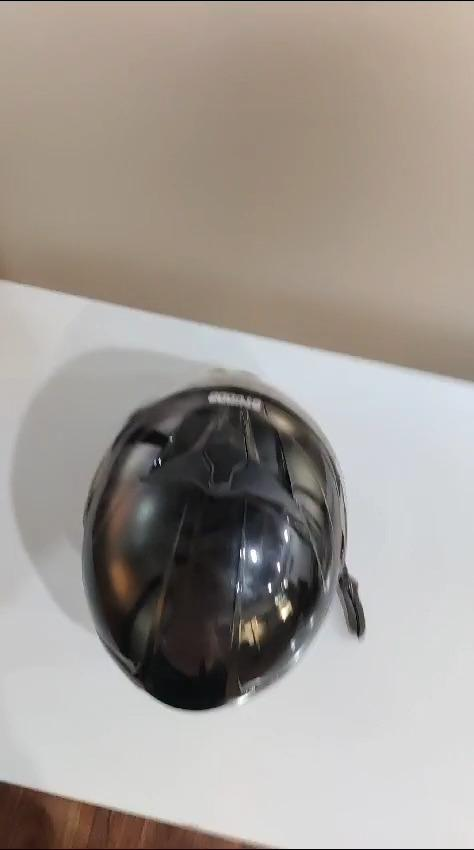Helmet: (82, 382, 341, 727)
